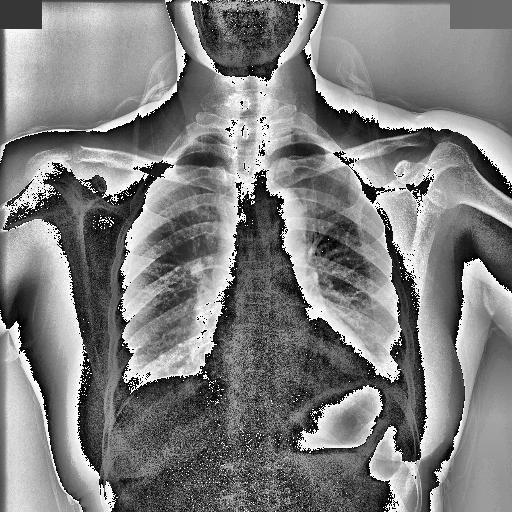0- Aortic enlargement: (262, 188, 307, 250), (262, 188, 306, 246), (257, 192, 305, 240)
3- Cardiomegaly: (194, 338, 378, 400), (204, 335, 376, 392), (200, 344, 376, 380)
